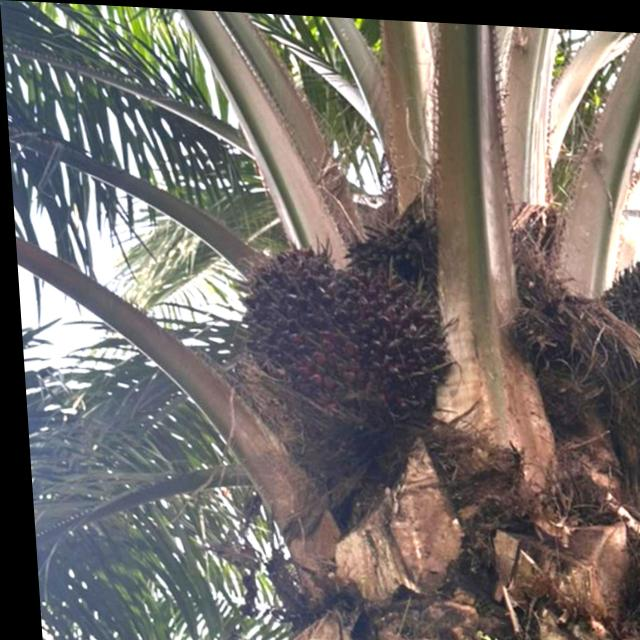ripe: (211, 214, 474, 466)
